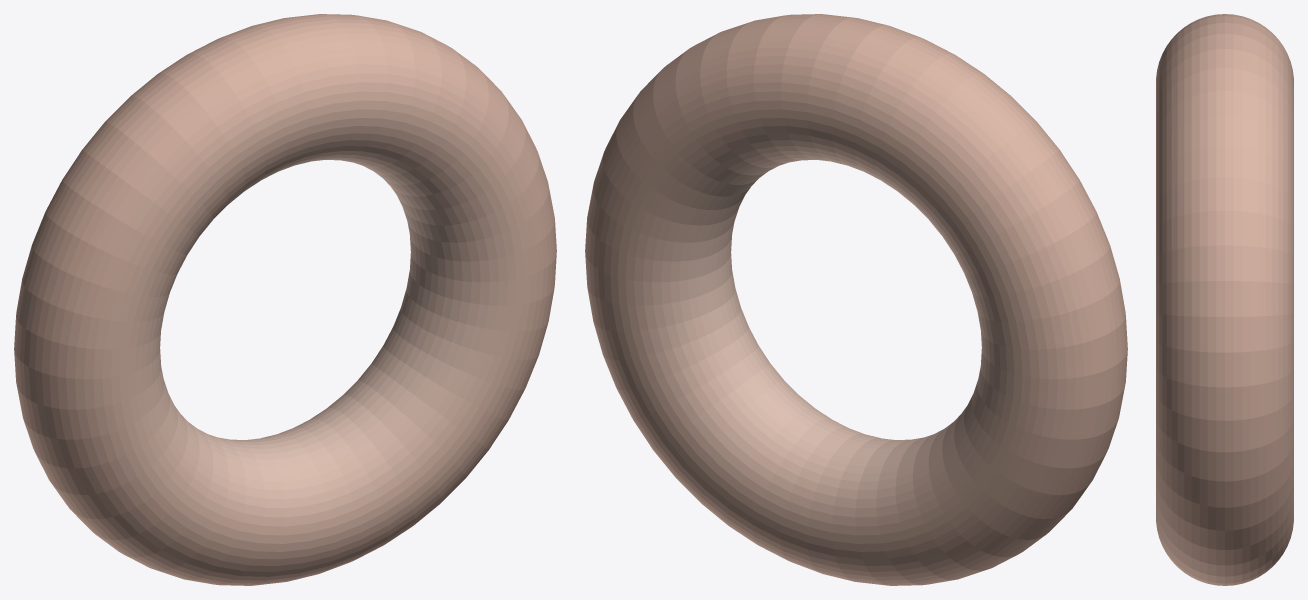
3 renders of one model, left to right at view 1: azimuth 30°, elevation 25°; view 2: azimuth 150°, elevation 25°; view 3: azimuth 270°, elevation 25°, orthographic. The views are drawn at different scales.
Visible parts, largest first — view 1: world; view 2: world; view 3: world.
Part boxes in pixels (x1,y1,x2,y2): world: (14, 14, 556, 585); world: (585, 14, 1127, 585); world: (1156, 14, 1293, 585).
Bounding box in the file's own units: 28.13 × 28.08 × 6.79.
